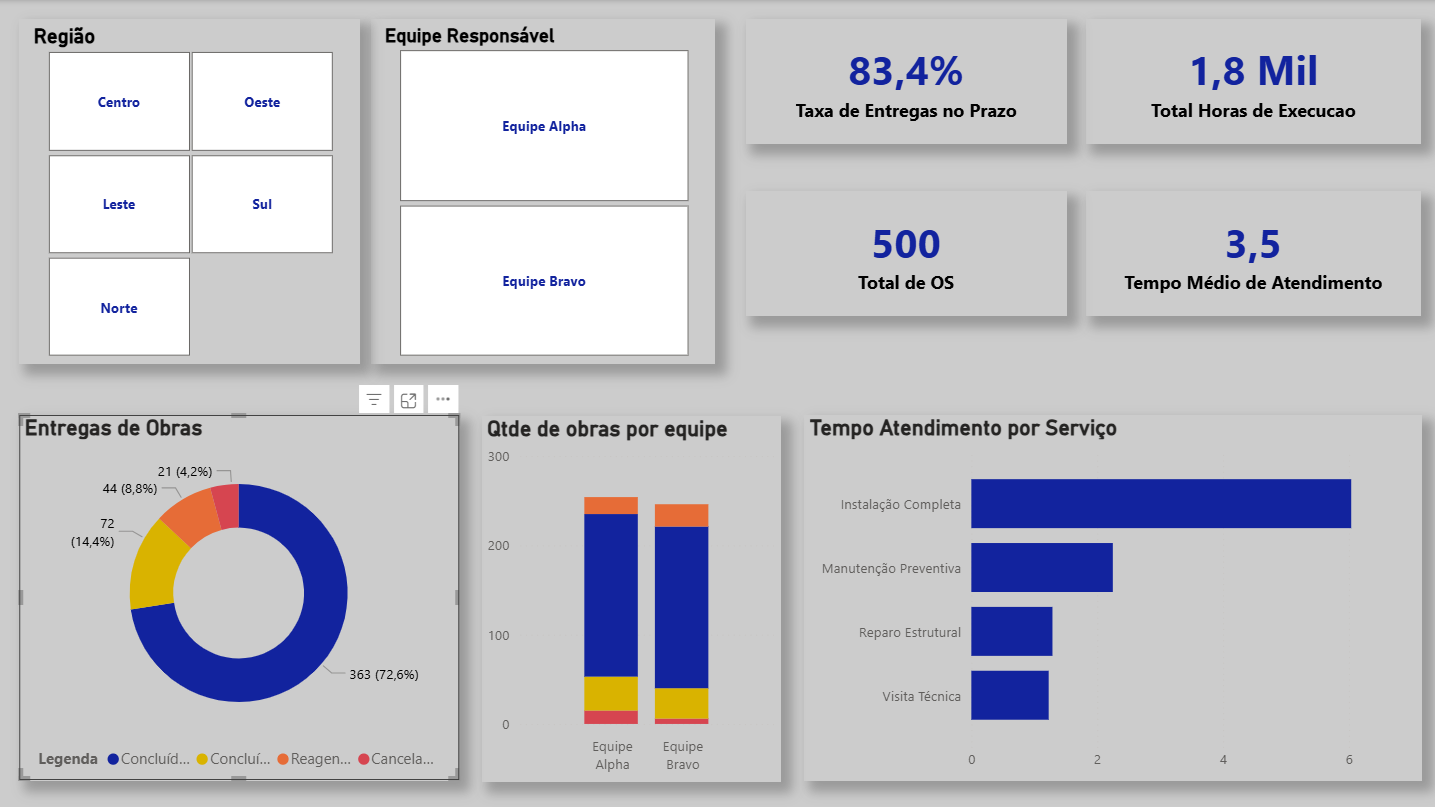

The dashboard page shown, as its layout file describes it:
{"tool":"powerbi","page":{"name":"Página 1","canvas":[1280,720],"ordinal":0},"visuals":[{"type":"cardVisual","fields":{"Data":["_Medidas.Taxa_SLA_No_Prazo"]},"box":[665.5,16.5,286.8,111.1],"z":0},{"type":"slicer","fields":{"Values":["base_operacional_equipes.Regiao"]},"box":[19.2,16.5,303.3,307.4],"z":1},{"type":"slicer","fields":{"Values":["base_operacional_equipes.Equipe_Responsavel"]},"box":[332.1,16.5,307.4,307.4],"z":2},{"type":"cardVisual","fields":{"Data":["_Medidas.Total_OS"]},"box":[665.5,170.2,286.8,111.1],"z":3},{"type":"cardVisual","fields":{"Data":["_Medidas.Tempo_Medio_Atendimento"]},"box":[968.8,170.2,299.1,111.1],"z":4},{"type":"cardVisual","fields":{"Data":["_Medidas.Total_Horas_Execucao"]},"box":[968.8,16.5,299.1,111.1],"z":5},{"type":"donutChart","title":"Entregas de Obras","fields":{"Category":["base_operacional_equipes.Status_OS"],"Y":["_Medidas.Total_OS"]},"box":[19.2,369.1,391.1,325.2],"z":6},{"type":"clusteredBarChart","title":"Tempo Atendimento por Serviço","fields":{"Category":["base_operacional_equipes.Tipo_Servico"],"Y":["_Medidas.Tempo_Medio_Atendimento"]},"box":[717.7,369.1,550.3,325.2],"z":7},{"type":"columnChart","title":"Qtde de obras por equipe","fields":{"Category":["base_operacional_equipes.Equipe_Responsavel"],"Y":["_Medidas.Total_OS"],"Series":["base_operacional_equipes.Status_OS"]},"box":[430.9,370.5,266.2,325.2],"z":8}]}

Visuals, with their boxes in screenshot pixels (x1, y1, x2, y2), scaled from the page's 1280x720 canvas onto the 1435x807 screenshot:
cardVisual - _Medidas.Taxa_SLA_No_Prazo: box(746, 18, 1068, 143)
slicer - base_operacional_equipes.Regiao: box(22, 18, 362, 363)
slicer - base_operacional_equipes.Equipe_Responsavel: box(372, 18, 717, 363)
cardVisual - _Medidas.Total_OS: box(746, 191, 1068, 315)
cardVisual - _Medidas.Tempo_Medio_Atendimento: box(1086, 191, 1421, 315)
cardVisual - _Medidas.Total_Horas_Execucao: box(1086, 18, 1421, 143)
"Entregas de Obras" donutChart: box(22, 414, 460, 778)
"Tempo Atendimento por Serviço" clusteredBarChart: box(805, 414, 1422, 778)
"Qtde de obras por equipe" columnChart: box(483, 415, 782, 780)
